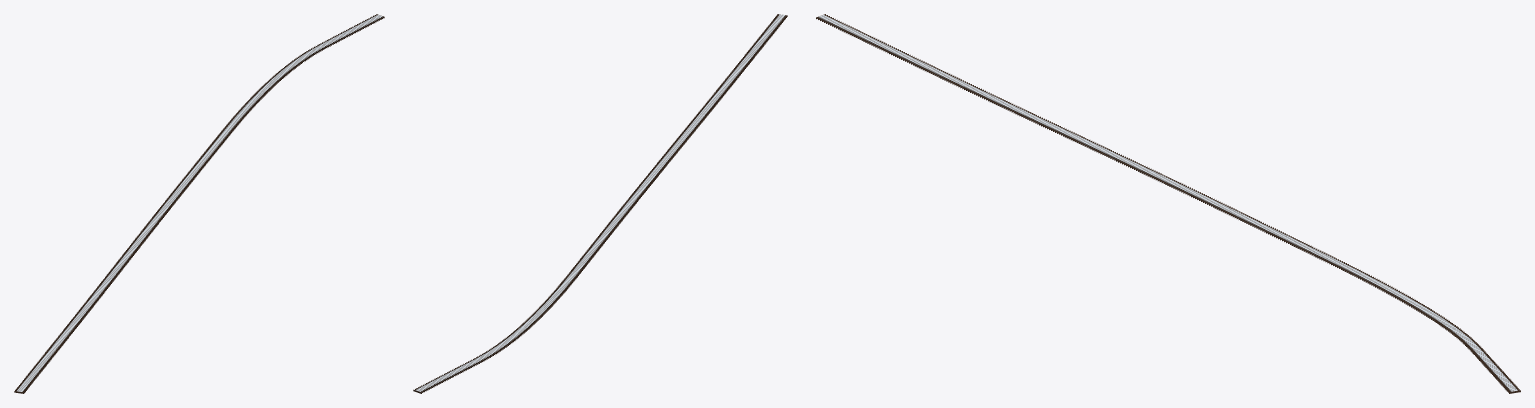
File: Ties_-1_-1.fbx
3 views of the same model, side by side, from view 1: azimuth 30°, elevation 25°; view 2: azimuth 210°, elevation 25°; view 3: azimuth 270°, elevation 25° (orthographic). The views are drawn at different scales.
Parts seen in each view (by area): view 1: Ties_-1_-1; view 2: Ties_-1_-1; view 3: Ties_-1_-1.
Part boxes in pixels (bbox=[...]): Ties_-1_-1: bbox=[14, 14, 384, 393]; Ties_-1_-1: bbox=[413, 14, 787, 393]; Ties_-1_-1: bbox=[816, 14, 1520, 393].
Bounding box in the file's own units: 60249 × 305 × 47128.
